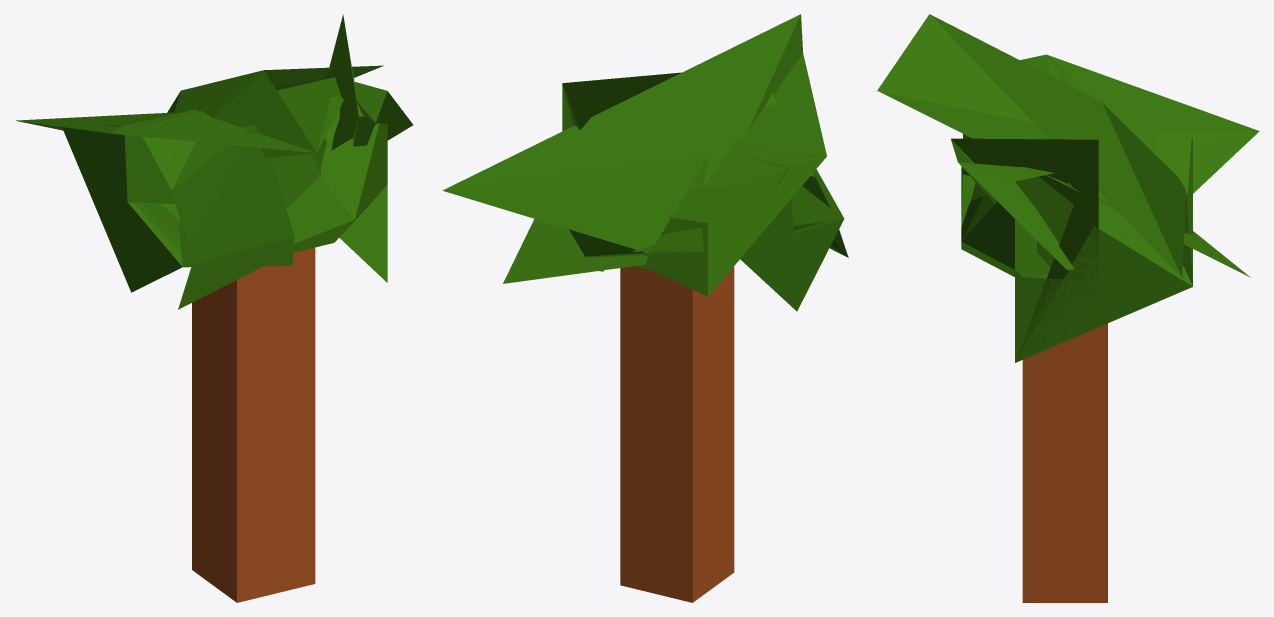
File: tree.gltf
3 views of the same model, side by side, from view 1: azimuth 30°, elevation 25°; view 2: azimuth 150°, elevation 25°; view 3: azimuth 270°, elevation 25° (orthographic). The views are drawn at different scales.
Visible parts, largest first — view 1: Cube.001, Cube; view 2: Cube.001, Cube; view 3: Cube.001, Cube.
Part boxes in pixels (x1,y1,x2,y2): Cube.001: (16,14,412,309); Cube: (192,247,315,602); Cube.001: (442,14,848,311); Cube: (620,266,734,602); Cube.001: (877,14,1259,362); Cube: (1022,323,1107,602).
Bounding box in the file's own units: 8.82 × 14.03 × 8.97.
